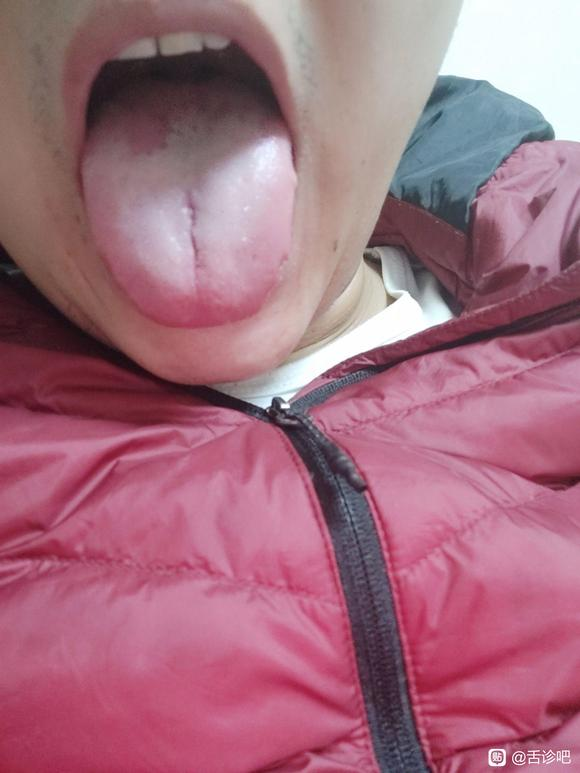baitaishe: (80, 71, 296, 327)
botaishe: (83, 74, 194, 161)
hongshe: (80, 71, 296, 327)
liewenshe: (182, 193, 201, 271)
